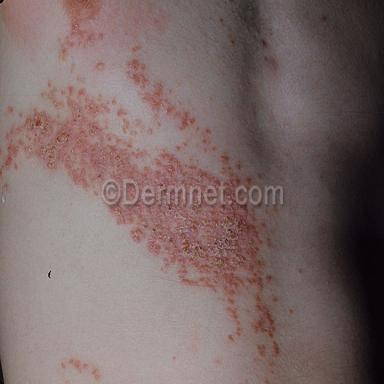Darier_s-Disease: (0, 0, 245, 185), (110, 206, 280, 364)
